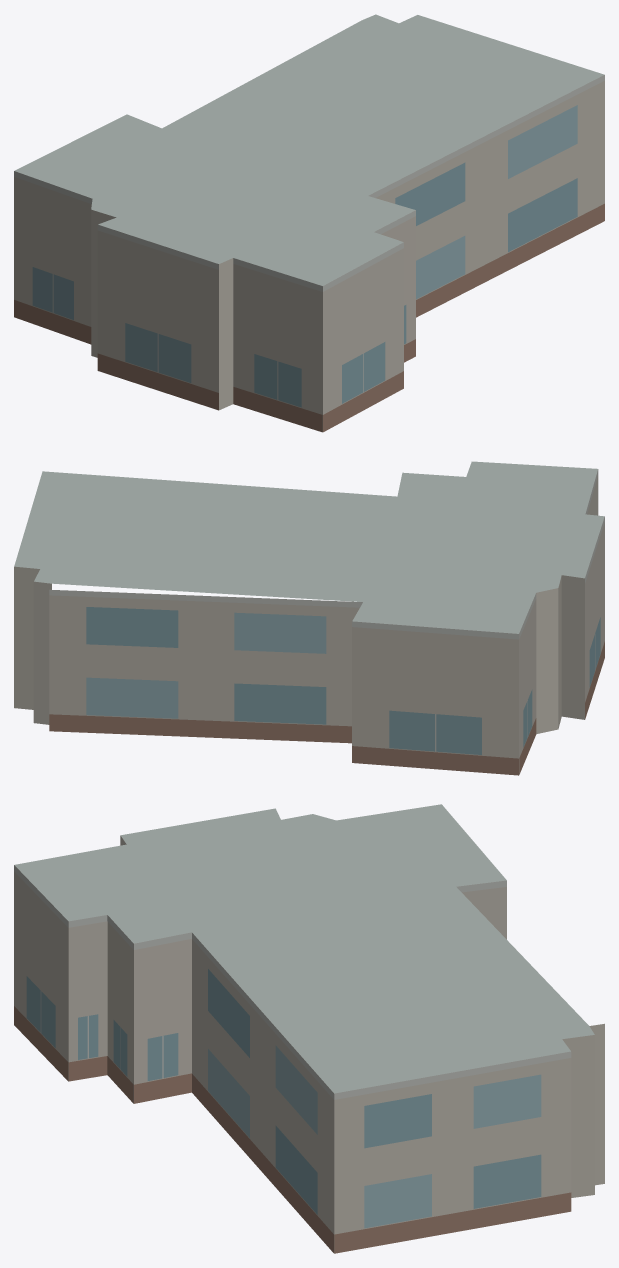
The model's file is survey-upis-32848102.glb.
3 views of the same model, one above another, from view 1: azimuth 30°, elevation 25°; view 2: azimuth 150°, elevation 25°; view 3: azimuth 270°, elevation 25° (orthographic). The views are drawn at different scales.
Parts seen in each view (by area): view 1: survey-upis-32848102.tmp; view 2: survey-upis-32848102.tmp; view 3: survey-upis-32848102.tmp.
Part boxes in pixels (left/top/right/bottom): survey-upis-32848102.tmp: left=14, top=14, right=604, bottom=432; survey-upis-32848102.tmp: left=14, top=461, right=604, bottom=775; survey-upis-32848102.tmp: left=14, top=804, right=604, bottom=1253.
Bounding box in the file's own units: 23.65 × 6.1 × 20.41.
